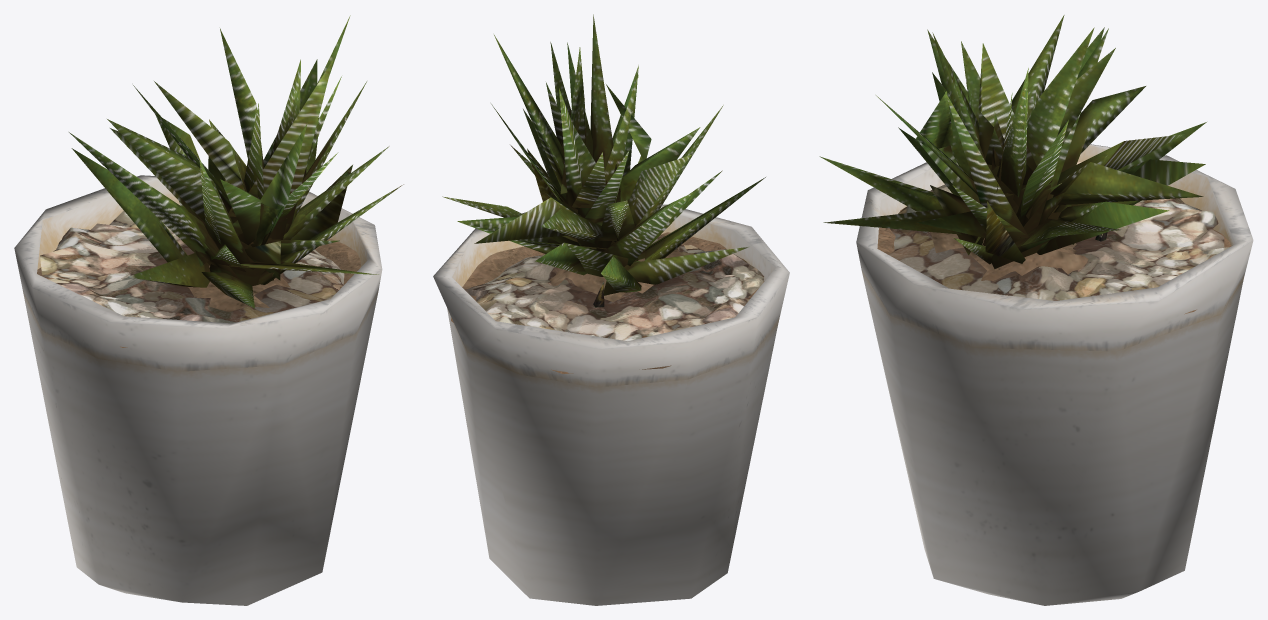
File: PottedPlantLOD2.fbx
The picture shows the model from 3 angles, left to right: view 1: azimuth 30°, elevation 25°; view 2: azimuth 150°, elevation 25°; view 3: azimuth 270°, elevation 25°; orthographic projection. The views are drawn at different scales.
Parts seen in each view (by area): view 1: potted_plant_04_pot, potted_plant_04_plant, potted_plant_04_ground, potted_plant_04_dirt; view 2: potted_plant_04_pot, potted_plant_04_plant, potted_plant_04_ground, potted_plant_04_dirt; view 3: potted_plant_04_pot, potted_plant_04_plant, potted_plant_04_ground, potted_plant_04_dirt.
Part boxes in pixels (x1,y1,x2,y2): potted_plant_04_pot: [14, 175, 382, 605]; potted_plant_04_plant: [69, 15, 403, 308]; potted_plant_04_ground: [40, 210, 344, 323]; potted_plant_04_dirt: [37, 238, 360, 347]; potted_plant_04_pot: [433, 204, 789, 605]; potted_plant_04_plant: [442, 14, 765, 307]; potted_plant_04_ground: [464, 236, 763, 341]; potted_plant_04_dirt: [451, 232, 764, 373]; potted_plant_04_pot: [856, 144, 1253, 605]; potted_plant_04_plant: [819, 15, 1206, 268]; potted_plant_04_ground: [889, 161, 1229, 300]; potted_plant_04_dirt: [877, 209, 1231, 314].
Size of the model in its own units: 16.85 by 26.22 by 18.31.
